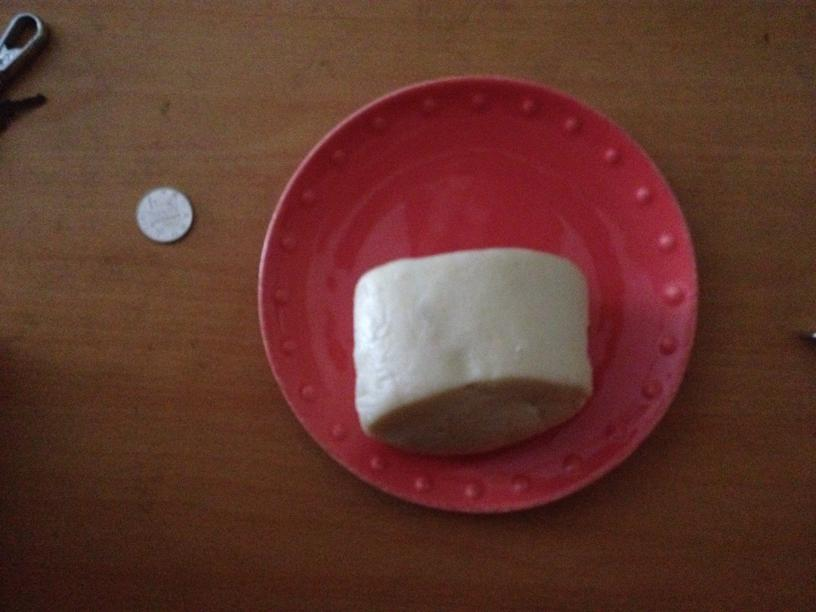bun: (352, 243, 595, 457)
coin: (135, 186, 191, 241)
